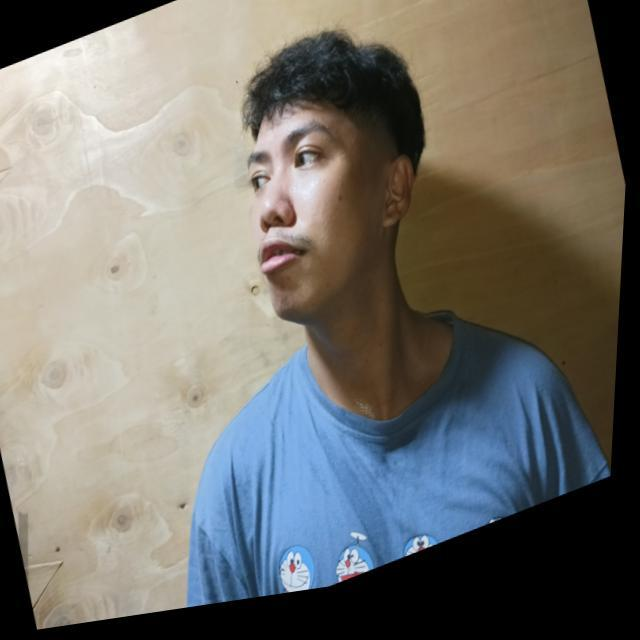Nonhelmet: (236, 27, 428, 326)
